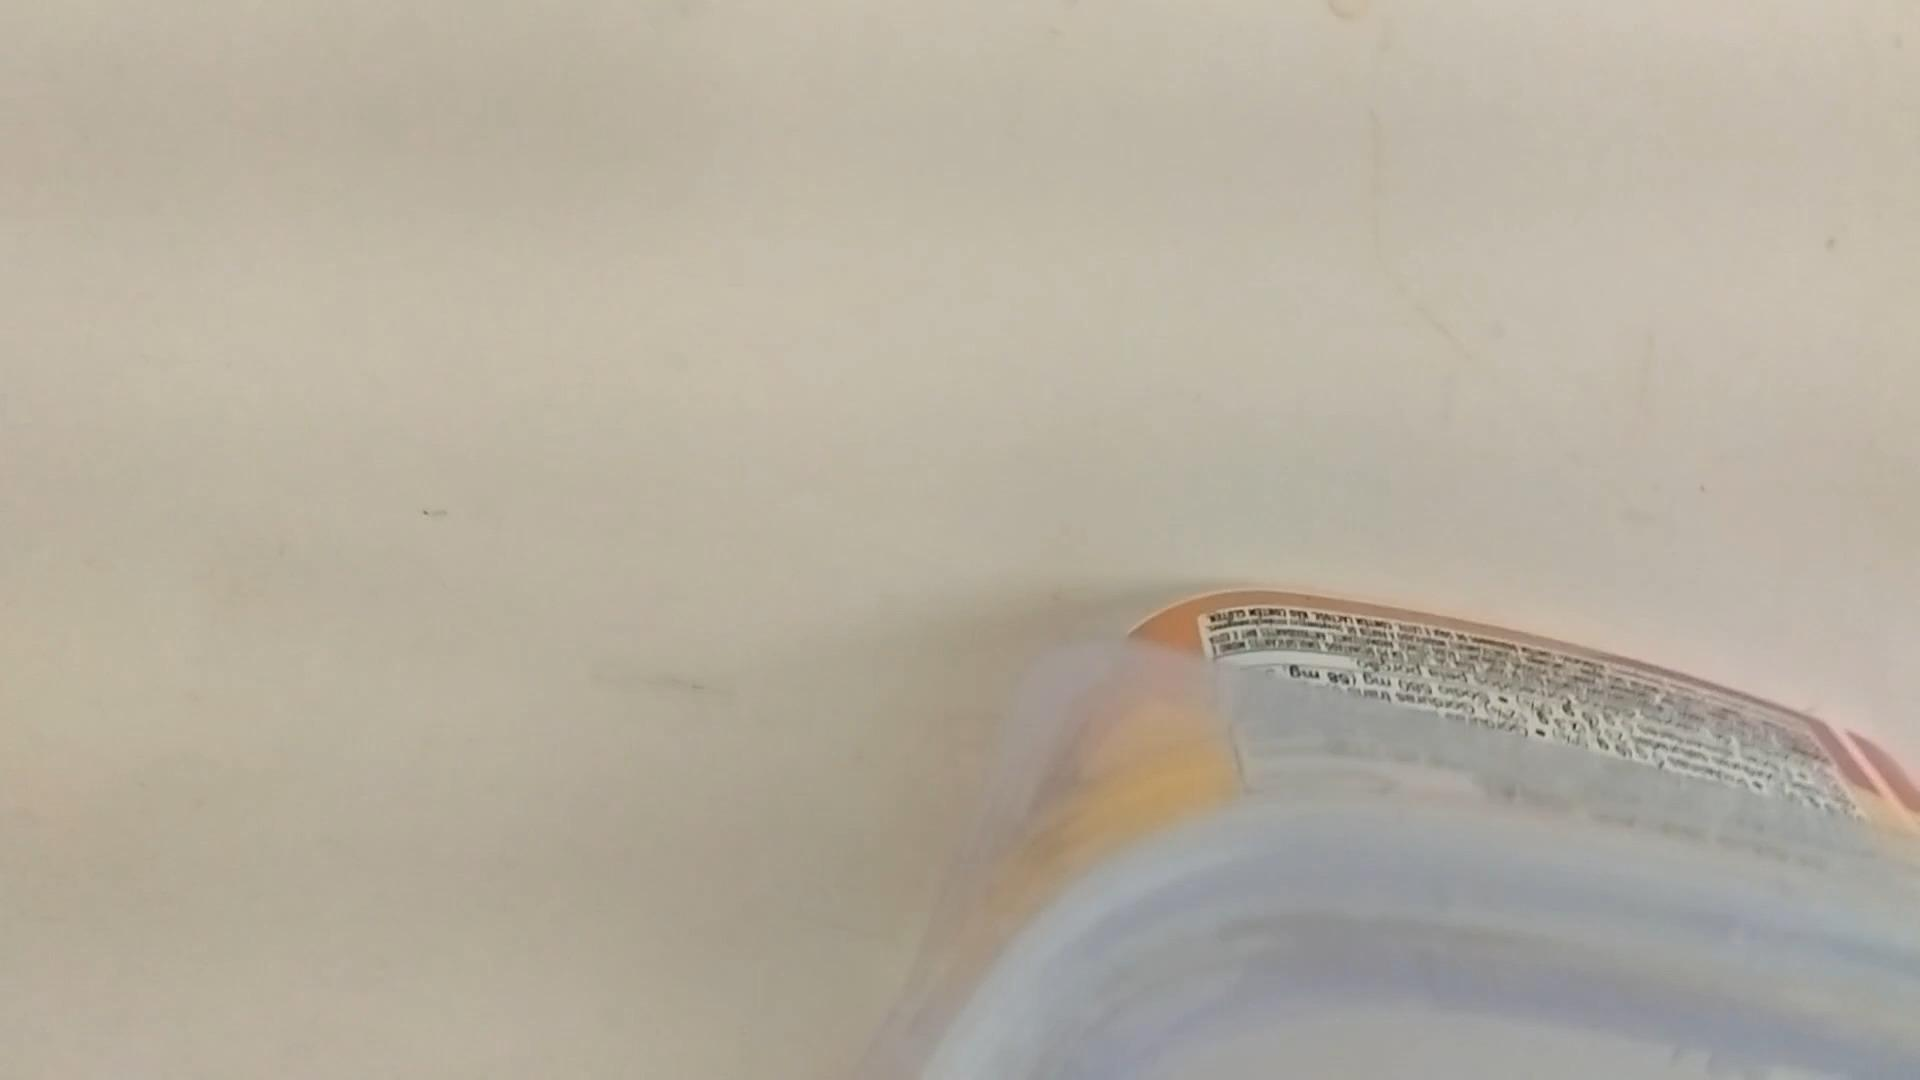butter: (880, 578, 1920, 1080)
